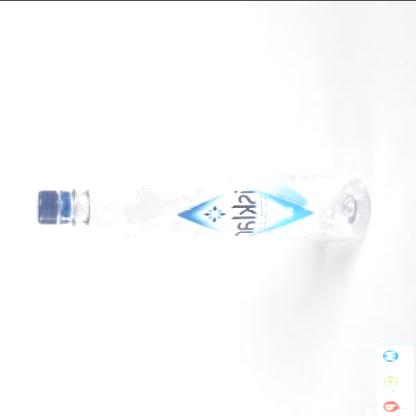bottle: (27, 163, 380, 250)
